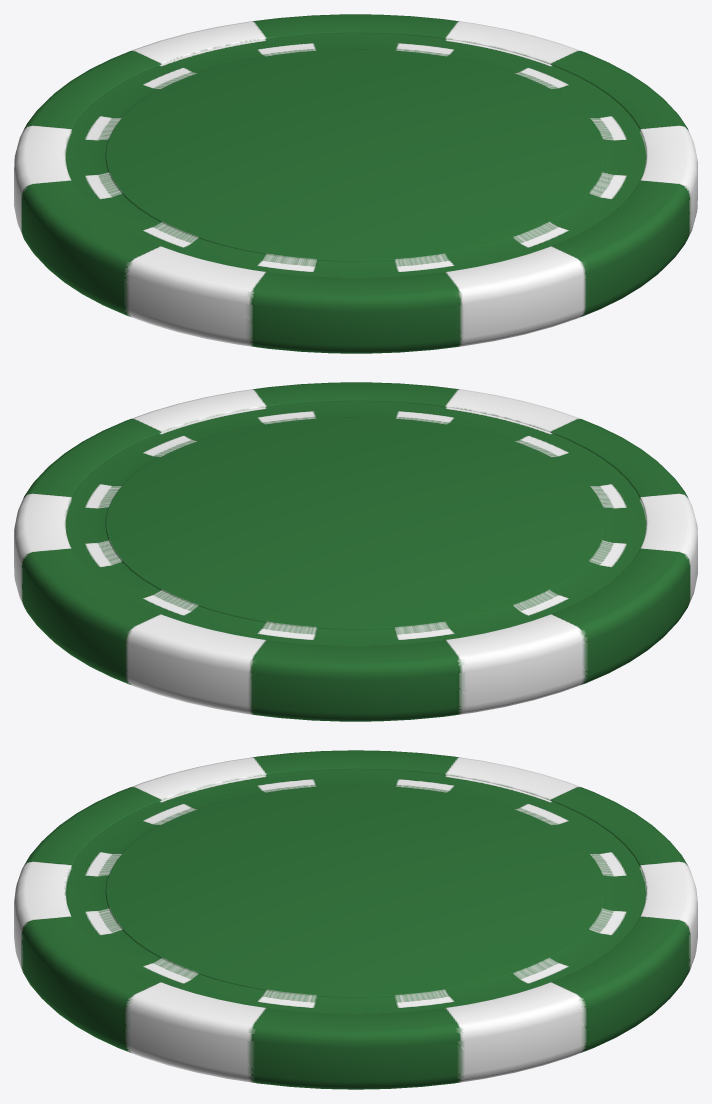
Rendered from green-white.glb.
3 renders of one model, top to bottom at view 1: azimuth 30°, elevation 25°; view 2: azimuth 150°, elevation 25°; view 3: azimuth 270°, elevation 25°, orthographic.
Parts seen in each view (by area): view 1: chips.179_chips_green_bake_0; view 2: chips.179_chips_green_bake_0; view 3: chips.179_chips_green_bake_0.
Part boxes in pixels (x1,y1,x2,y2): chips.179_chips_green_bake_0: [14, 14, 697, 353]; chips.179_chips_green_bake_0: [14, 382, 697, 721]; chips.179_chips_green_bake_0: [14, 750, 697, 1089].
Bounding box in the file's own units: 2 × 0.1882 × 2.
Materials: 1 (1 with a texture image).
